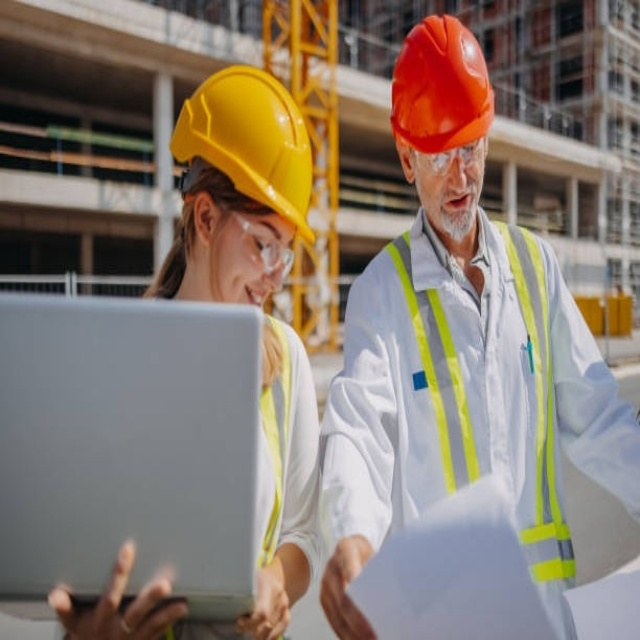Gafas: (221, 207, 295, 282), (414, 129, 492, 179)
Sin_guantes: (52, 535, 187, 639), (319, 532, 380, 640), (234, 554, 291, 640)
Sin_mascara: (441, 182, 478, 235), (242, 285, 270, 304)
